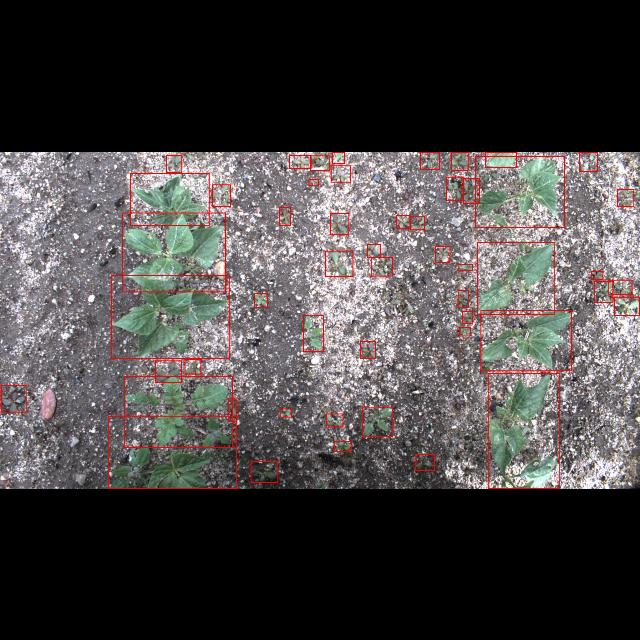crop: (112, 274, 228, 358), (109, 416, 237, 488), (122, 212, 225, 292), (488, 374, 558, 488), (476, 156, 564, 227), (478, 242, 554, 314), (481, 310, 572, 370), (130, 172, 210, 225), (486, 152, 516, 166)
weed: (124, 376, 232, 446), (362, 406, 392, 436), (303, 315, 323, 351), (1, 384, 26, 412), (326, 250, 352, 276), (155, 360, 181, 382), (250, 462, 278, 482), (614, 297, 640, 315), (371, 256, 393, 276), (446, 177, 464, 200), (331, 212, 349, 234), (212, 184, 230, 206), (594, 280, 612, 302), (463, 178, 479, 202), (608, 280, 632, 294), (580, 152, 598, 170), (331, 165, 351, 181), (310, 154, 330, 170), (420, 152, 440, 168), (416, 454, 434, 470), (360, 340, 376, 358), (618, 188, 634, 206), (166, 154, 182, 172), (452, 151, 468, 169), (290, 154, 310, 168), (185, 358, 201, 374), (434, 245, 450, 261), (228, 398, 238, 422), (326, 414, 344, 426), (410, 215, 424, 229), (255, 293, 268, 307), (396, 215, 410, 228), (334, 441, 352, 451), (280, 206, 290, 224), (458, 290, 468, 306), (368, 244, 380, 256), (462, 310, 472, 322), (332, 152, 344, 162), (460, 326, 470, 336), (592, 270, 602, 280), (280, 409, 292, 417), (458, 263, 472, 269), (308, 179, 318, 185)
